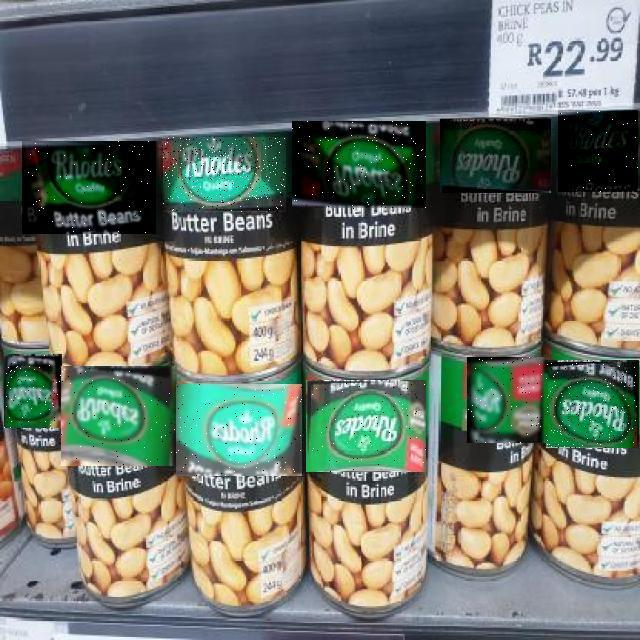Beans: (22, 141, 156, 234), (292, 122, 426, 210), (176, 384, 302, 476), (62, 366, 176, 466), (306, 380, 426, 472), (162, 137, 286, 212), (440, 119, 551, 193), (546, 360, 639, 448), (468, 357, 548, 443), (559, 111, 639, 193), (4, 354, 62, 428)
